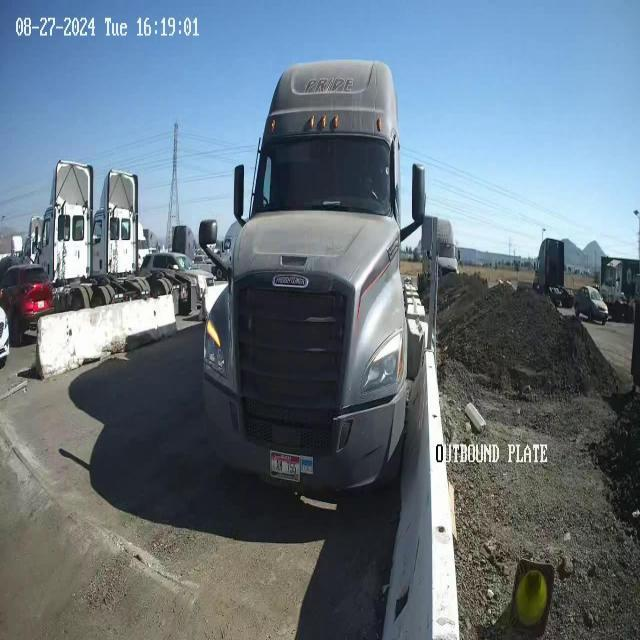TRUCK_OUT: (199, 58, 431, 499)
